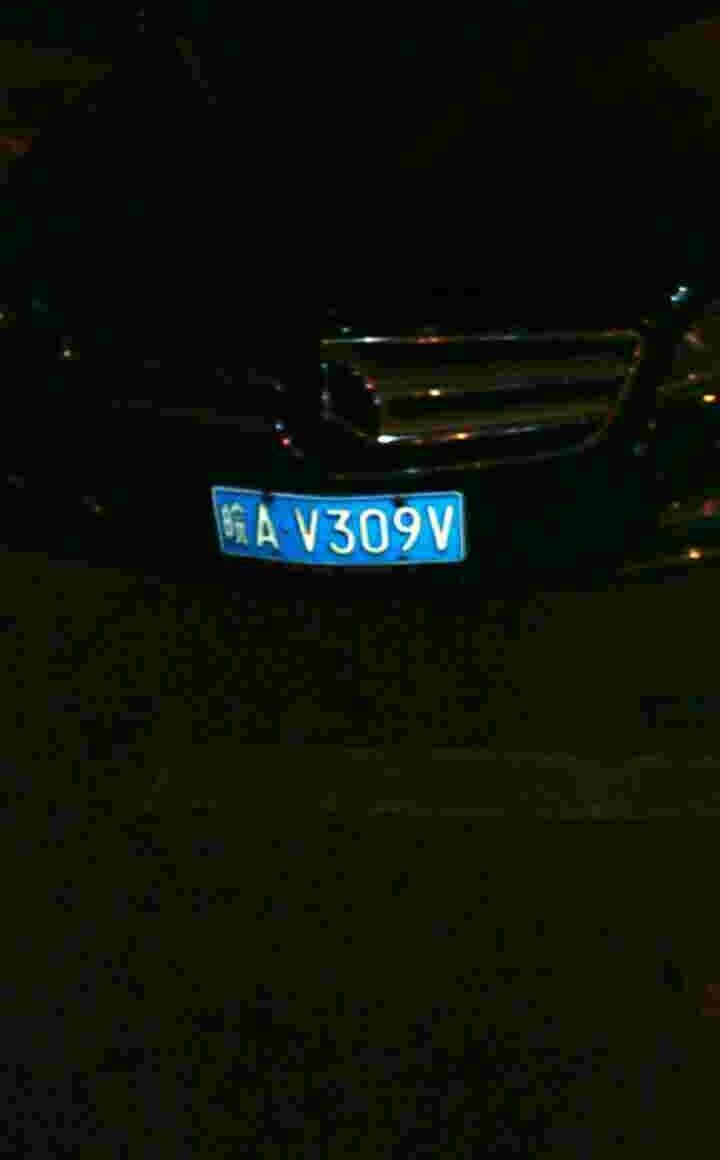license_plate: (221, 486, 459, 574)
